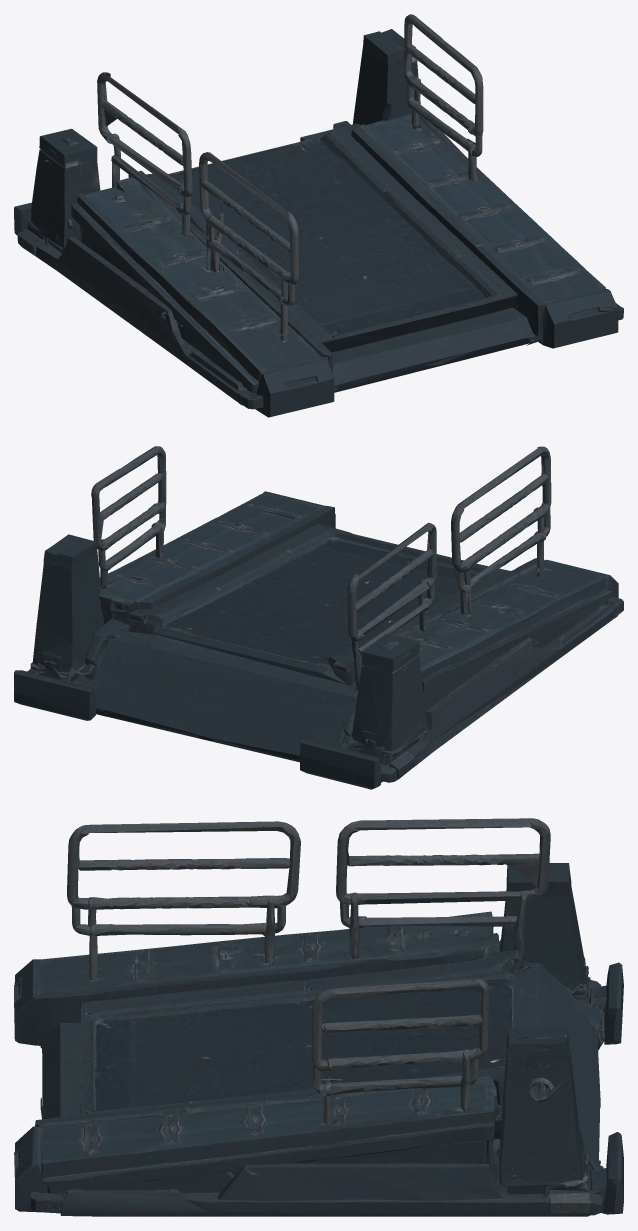
Rendered from bridge-ramp.glb.
3 renders of one model, top to bottom at view 1: azimuth 30°, elevation 25°; view 2: azimuth 150°, elevation 25°; view 3: azimuth 270°, elevation 25°, orthographic. The views are drawn at different scales.
Visible parts, largest first — view 1: mesh_node; view 2: mesh_node; view 3: mesh_node.
Part boxes in pixels (left/top/right/bottom): mesh_node: left=14, top=14, right=623, bottom=417; mesh_node: left=14, top=446, right=623, bottom=789; mesh_node: left=14, top=818, right=623, bottom=1216.
Size of the model in its own units: 1.67 by 0.7726 by 1.9.
Materials: 1 (1 with a texture image).
